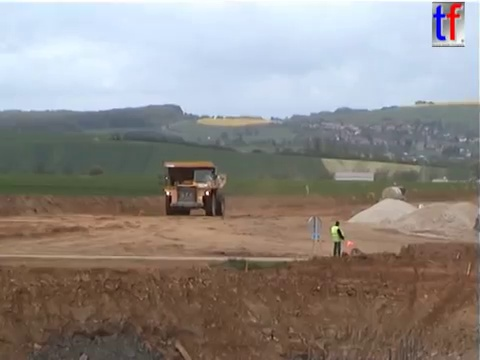excavator: (472, 211, 480, 234)
truck: (161, 158, 227, 217), (379, 180, 407, 207)
worker: (329, 218, 347, 260)
